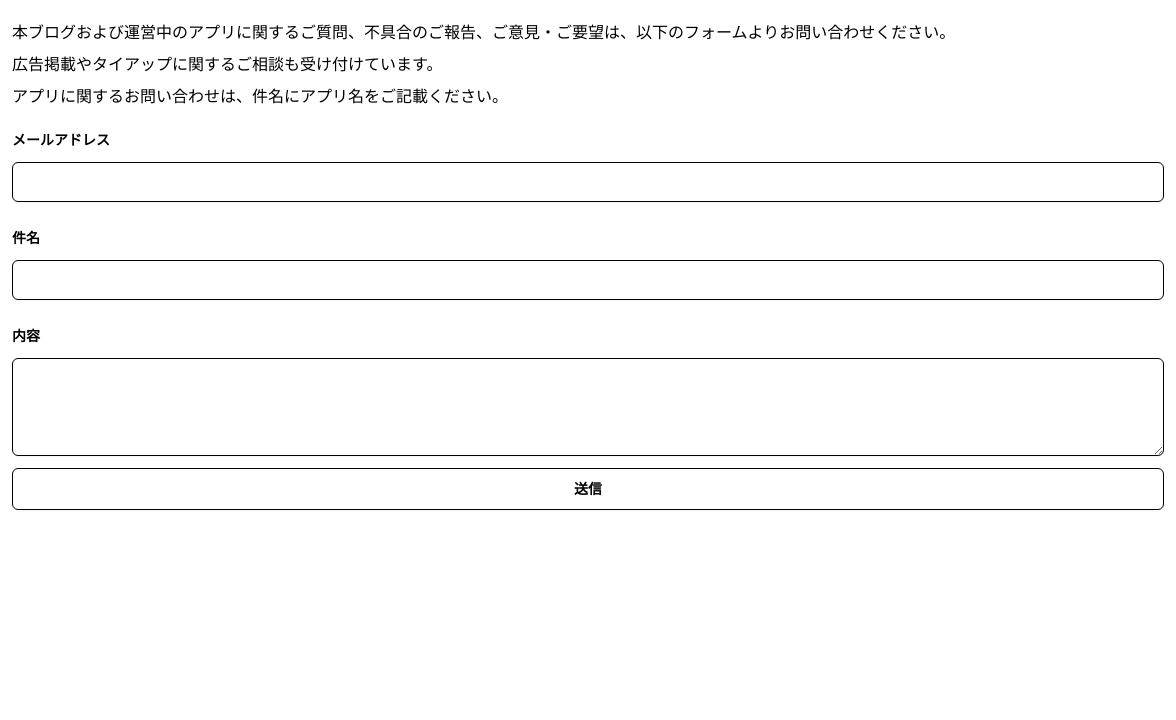
Test: ContactFeature › shows an email format validation message before opening the confirmation modal
Step 1. Type "invalid-email" into the field labelled "メールアドレス" → [588, 182], box [12,162,1164,202]
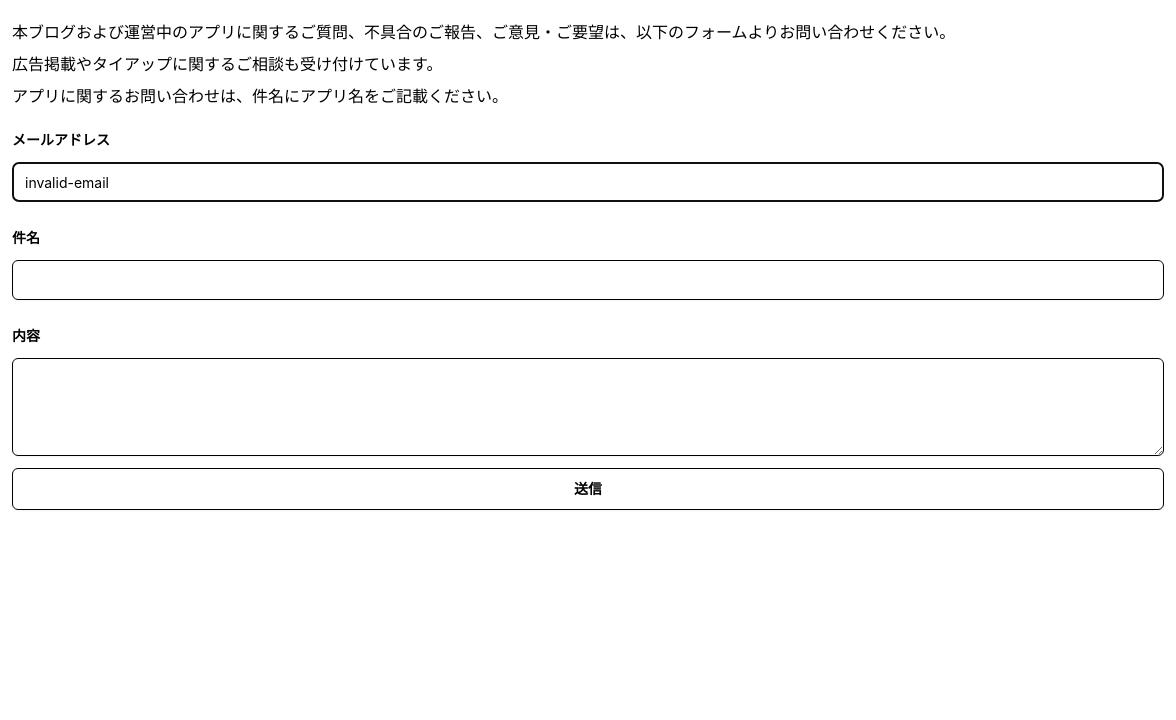
Step 2. Type "Test subject" into the field labelled "件名" → [588, 280], box [12,260,1164,300]
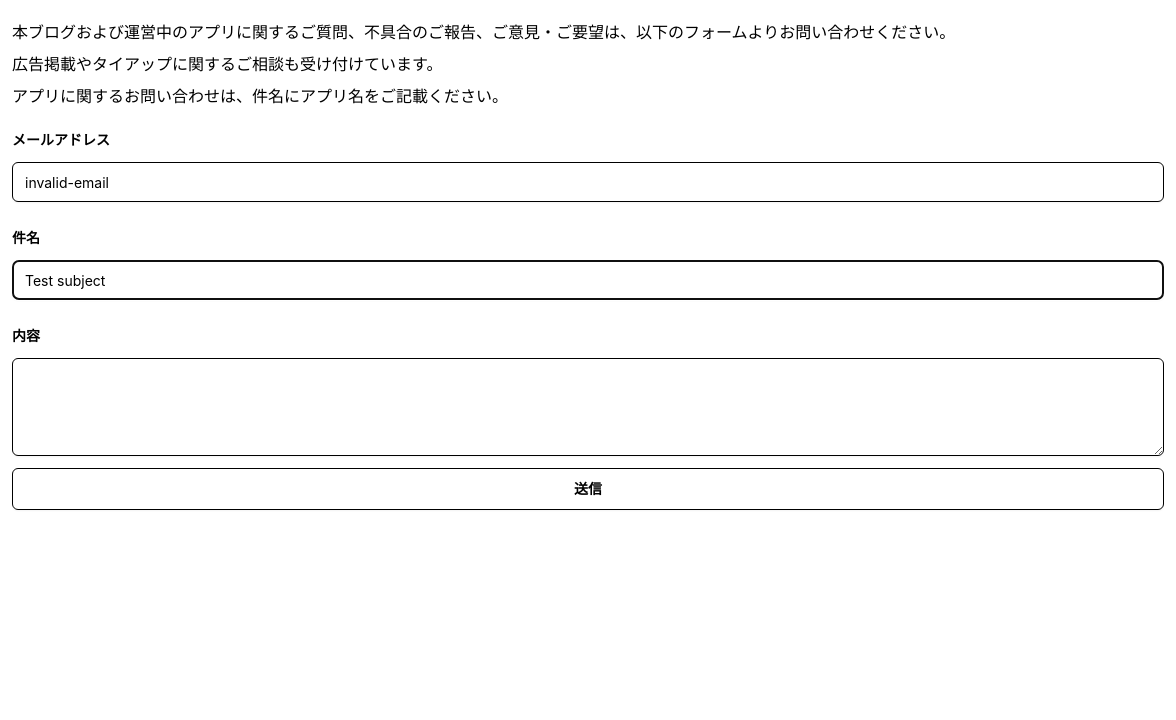
Step 3. Type "Test message" into the text box labelled "内容" → [588, 407], box [12,358,1164,456]
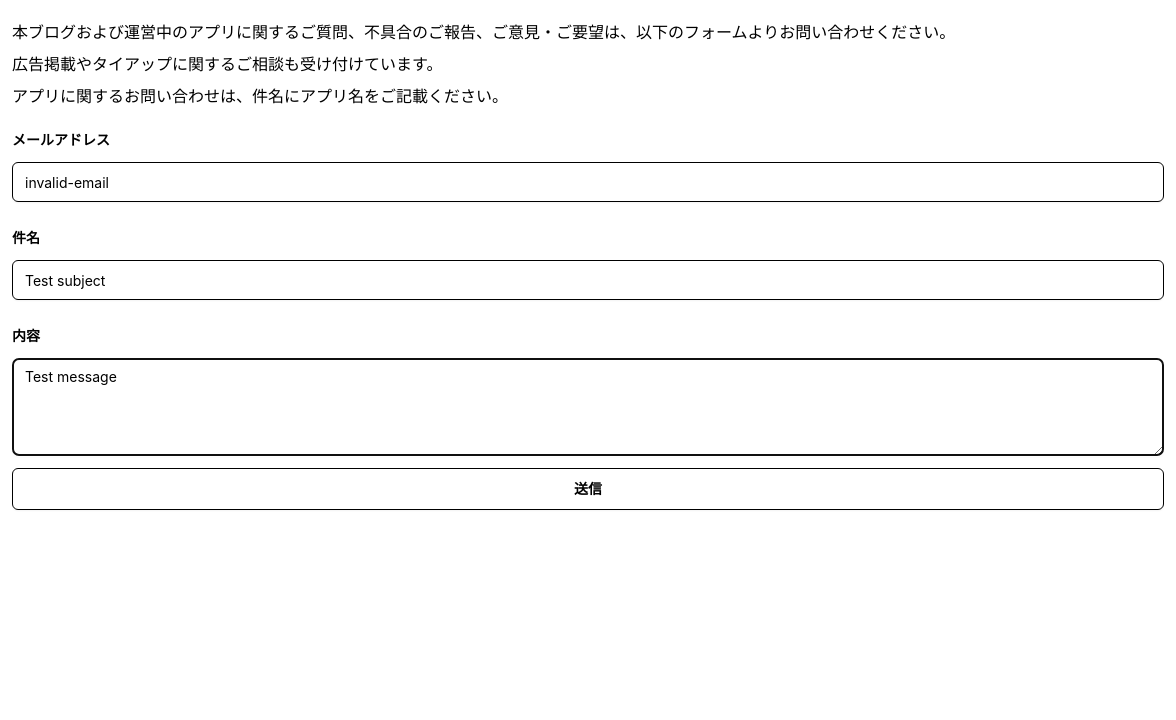
Step 4. Click the button "送信" → [588, 489], box [12,468,1164,510]
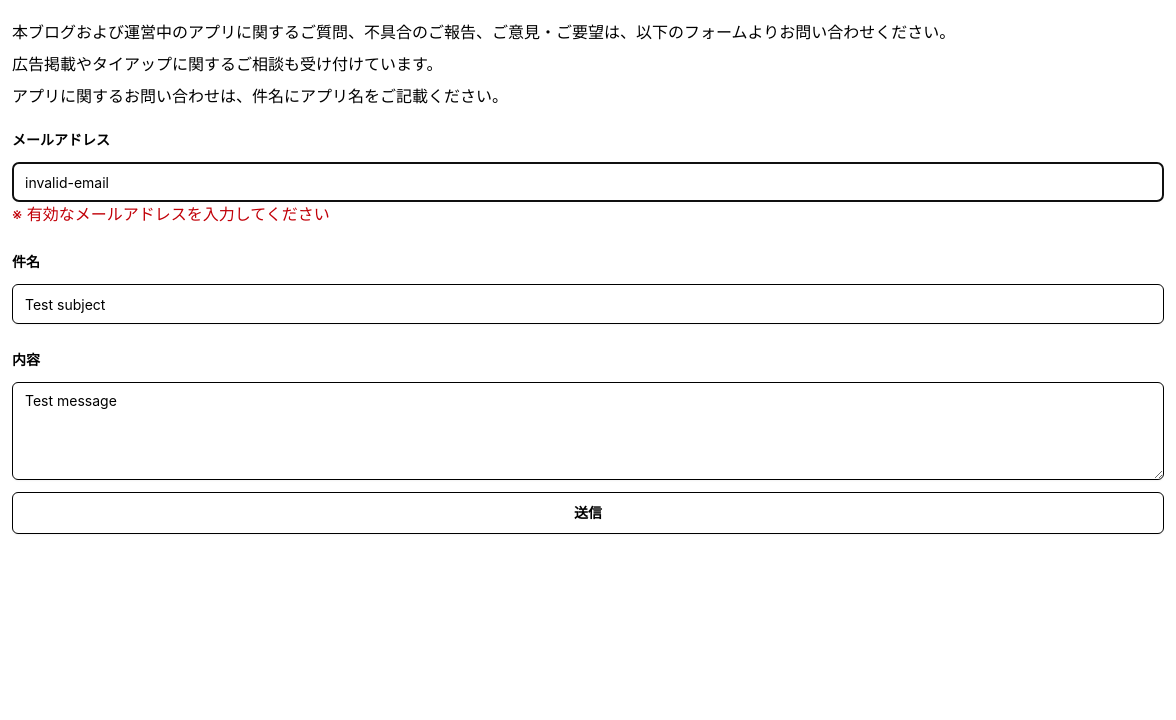
Check: the text "※ 有効なメールアドレスを入力してください" is shown, box [12,204,330,224]
